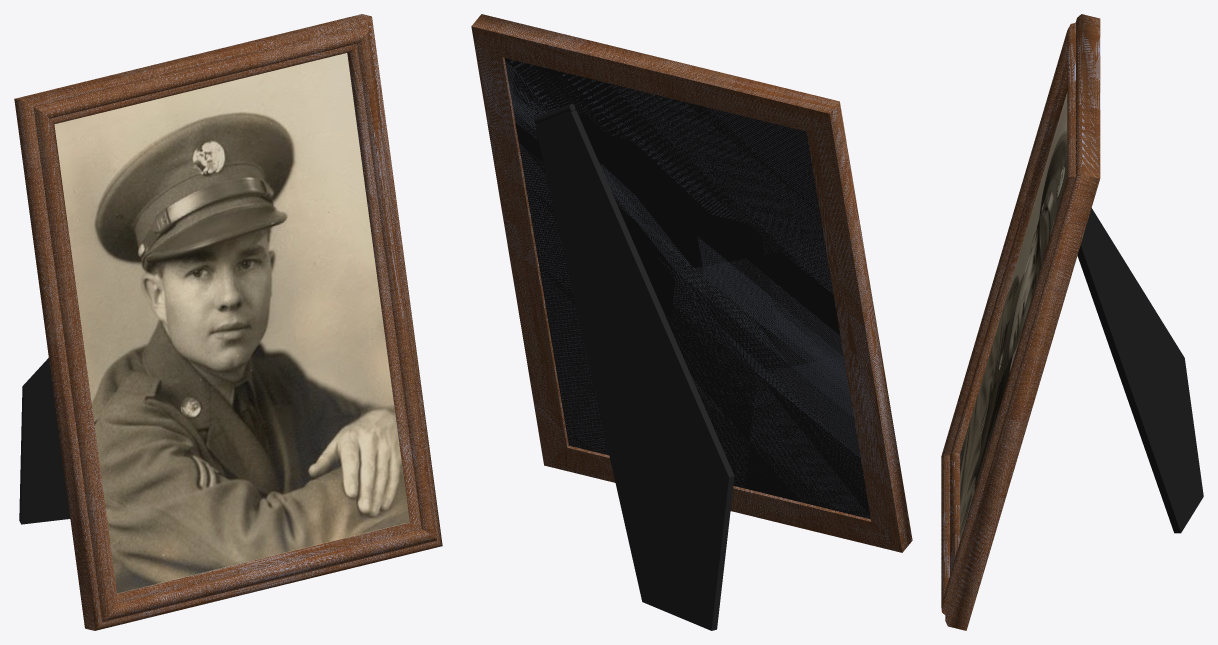
The picture shows the model from 3 angles, left to right: view 1: azimuth 30°, elevation 25°; view 2: azimuth 150°, elevation 25°; view 3: azimuth 270°, elevation 25°; orthographic projection. The views are drawn at different scales.
Parts seen in each view (by area): view 1: Father_During_the_War, Photo_-_Father_During_the_War_-_Frame (×3), group_1; view 2: Photo_-_Father_During_the_War_-_Frame (×3), group_1; view 3: Photo_-_Father_During_the_War_-_Frame (×3), group_1, Father_During_the_War.
Boxes of the visible parts, left/top/right/bottom form: Father_During_the_War: left=54, top=53, right=409, bottom=593; Photo_-_Father_During_the_War_-_Frame (×3): left=14, top=14, right=442, bottom=630; group_1: left=19, top=358, right=70, bottom=524; Photo_-_Father_During_the_War_-_Frame (×3): left=471, top=14, right=912, bottom=552; group_1: left=534, top=104, right=734, bottom=630; Photo_-_Father_During_the_War_-_Frame (×3): left=941, top=14, right=1100, bottom=630; group_1: left=1077, top=208, right=1203, bottom=533; Father_During_the_War: left=960, top=92, right=1067, bottom=540.
Size of the model in its own units: 6.62 by 4.58 by 8.78.
Materials: 4 (2 with a texture image).
